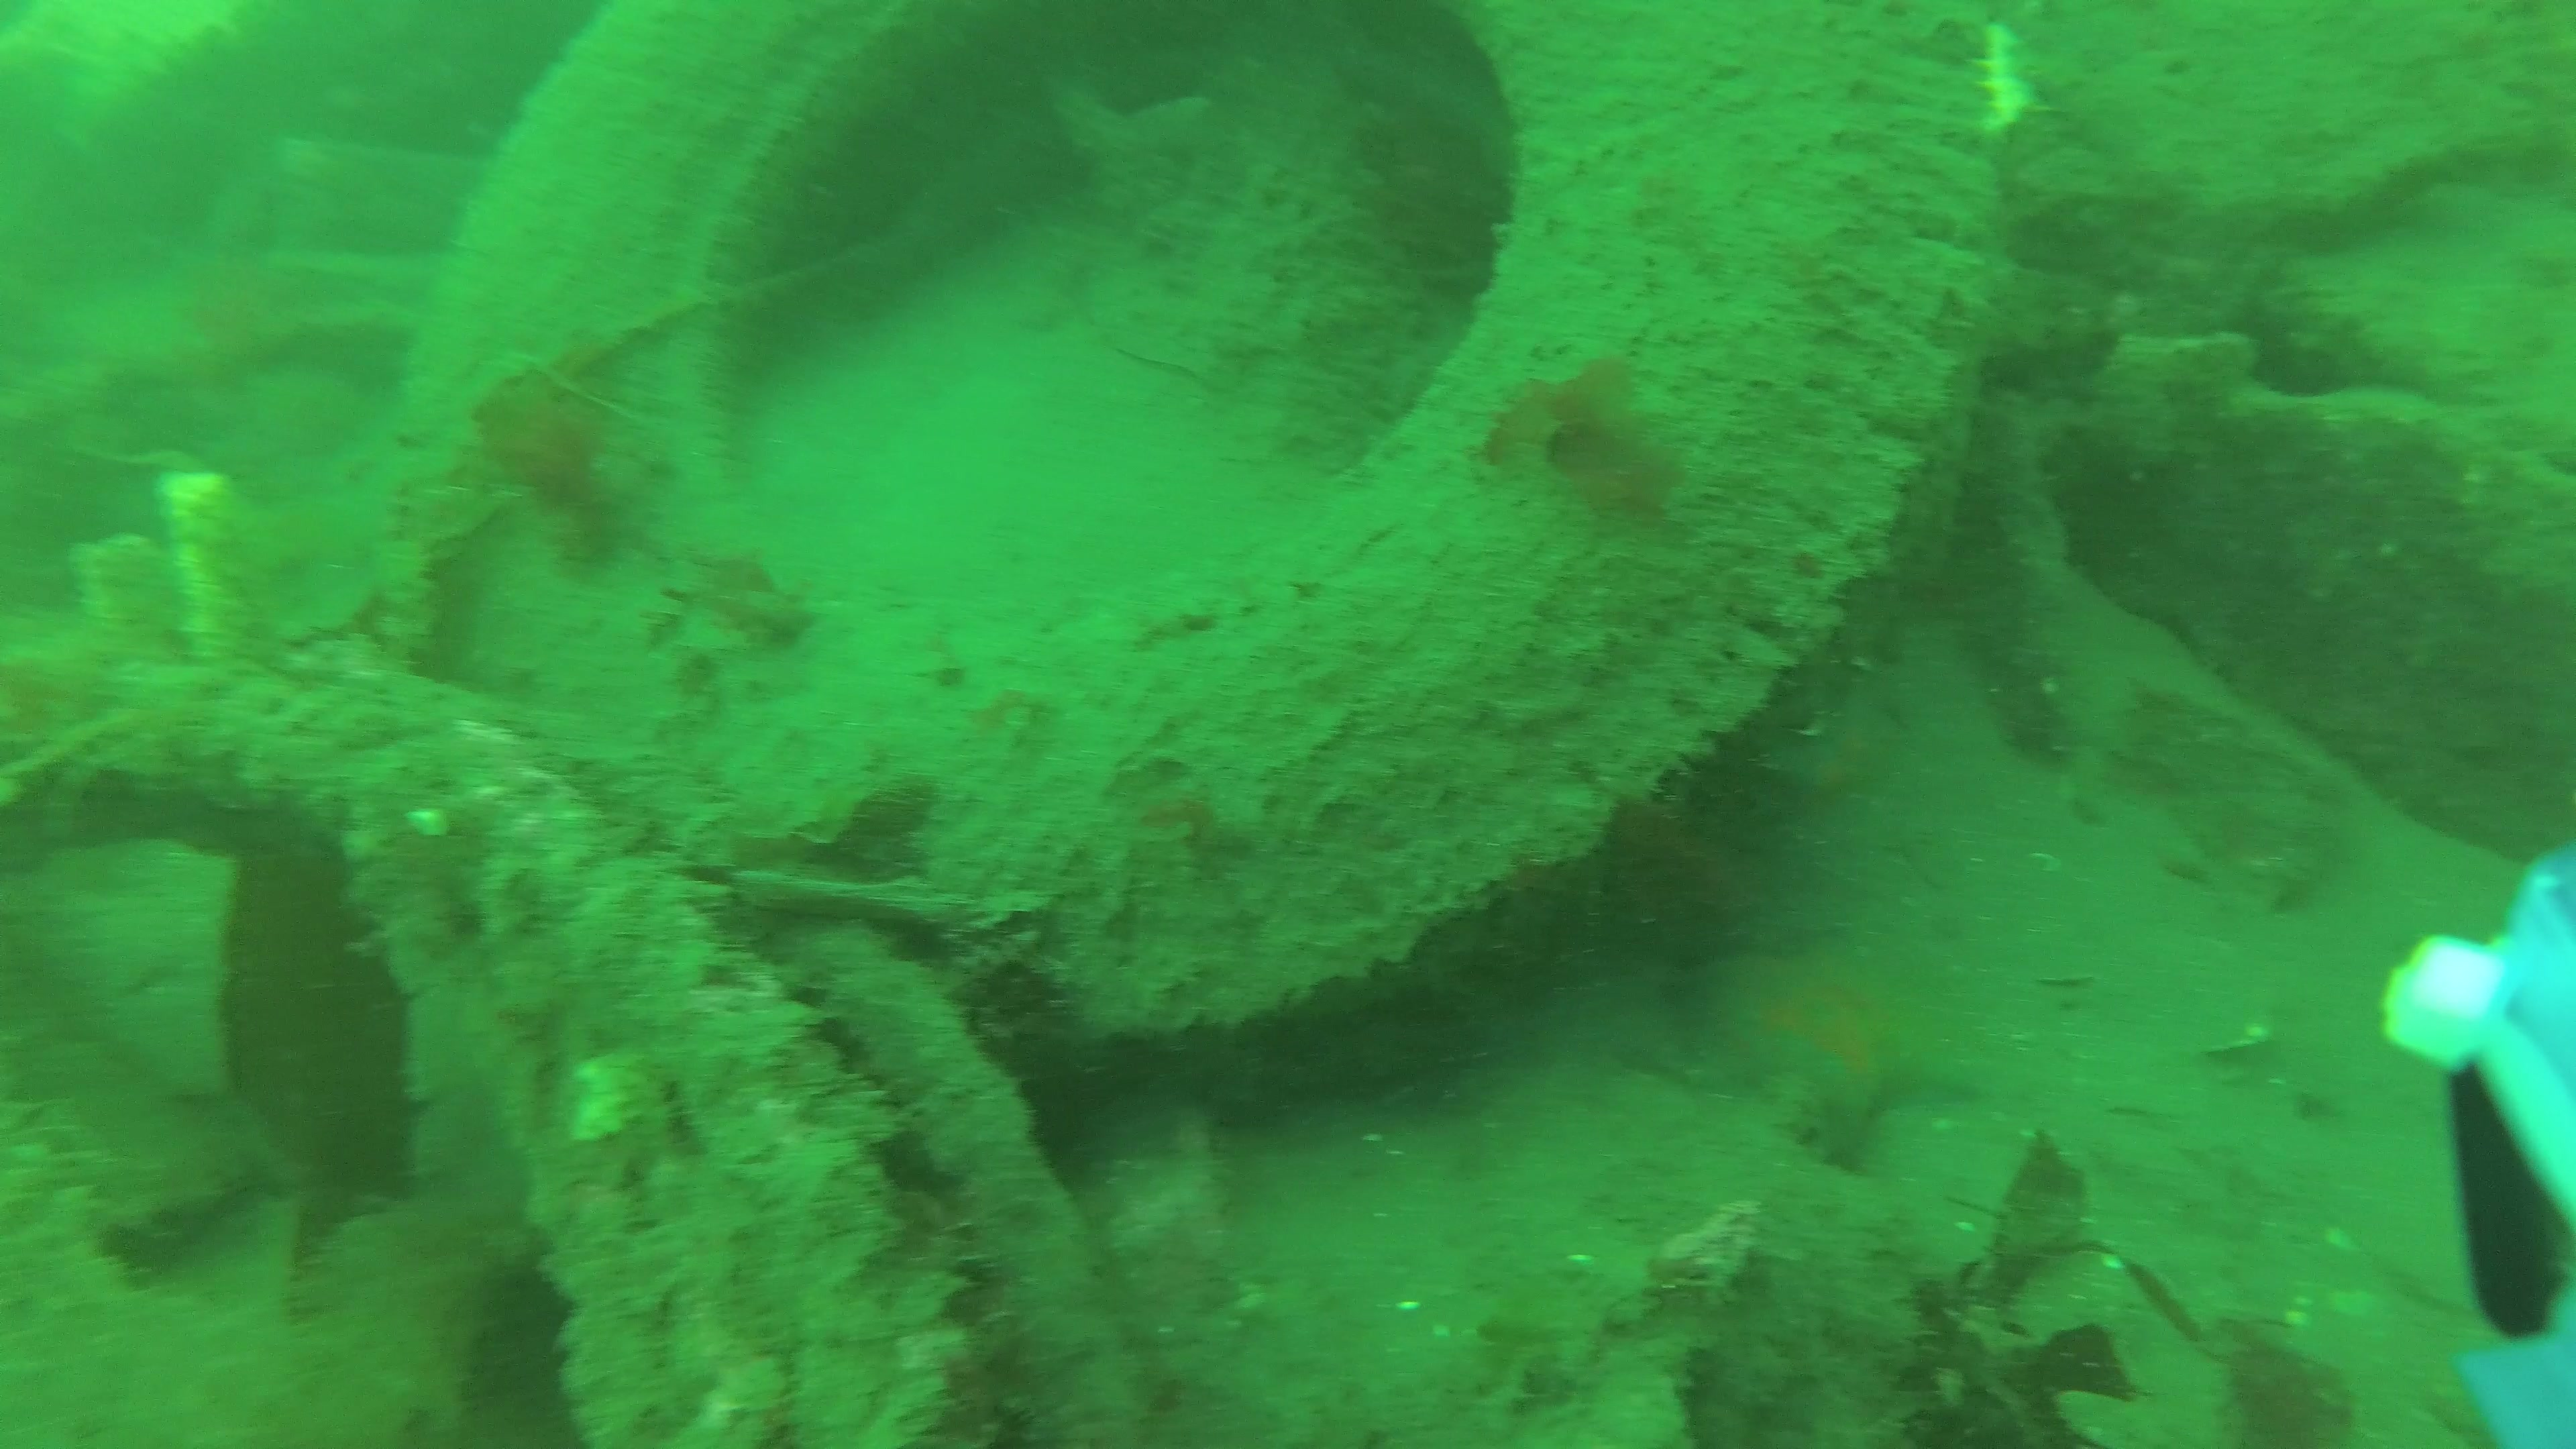holothurian: (1978, 25, 2040, 136)
starfish: (1672, 941, 2003, 1152), (1780, 676, 1955, 862)
